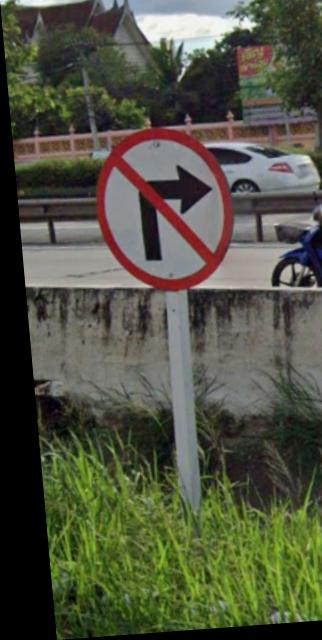not_turn_right: (72, 117, 247, 306)
